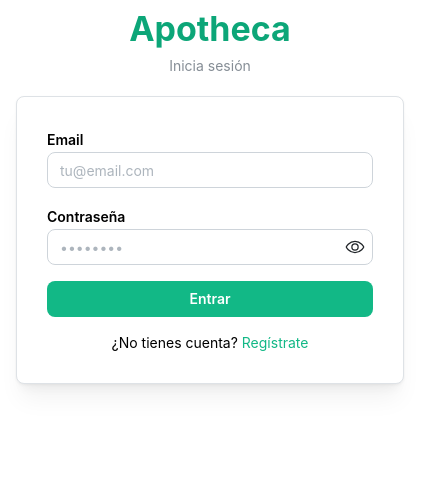
AuthPage › switches to register mode when clicking the anchor
This screenshot has width=421, height=487.
Click the link "Regístrate": coordinates (275, 343) [242, 334, 308, 351]
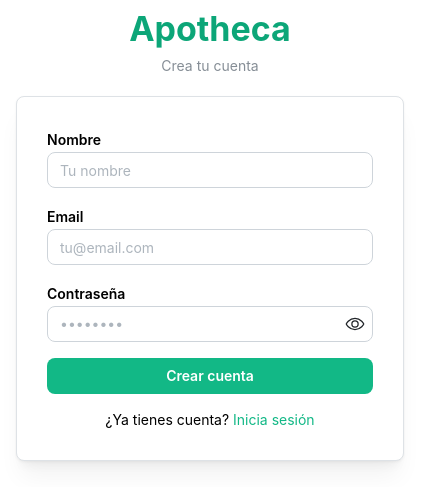
Check: the field with placeholder "Tu nombre" is shown, box [47, 152, 373, 188]
Check: the button "Crear cuenta" is shown, box [47, 358, 373, 394]
